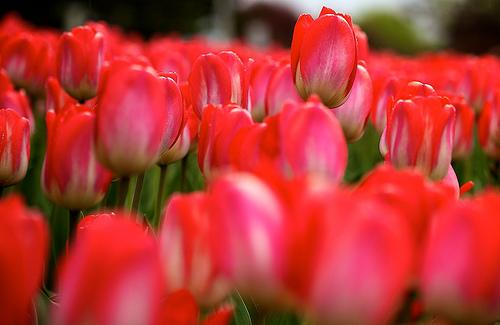tulip: (96, 64, 167, 173), (42, 108, 111, 208), (292, 7, 359, 108), (387, 80, 453, 181), (56, 26, 108, 98)
